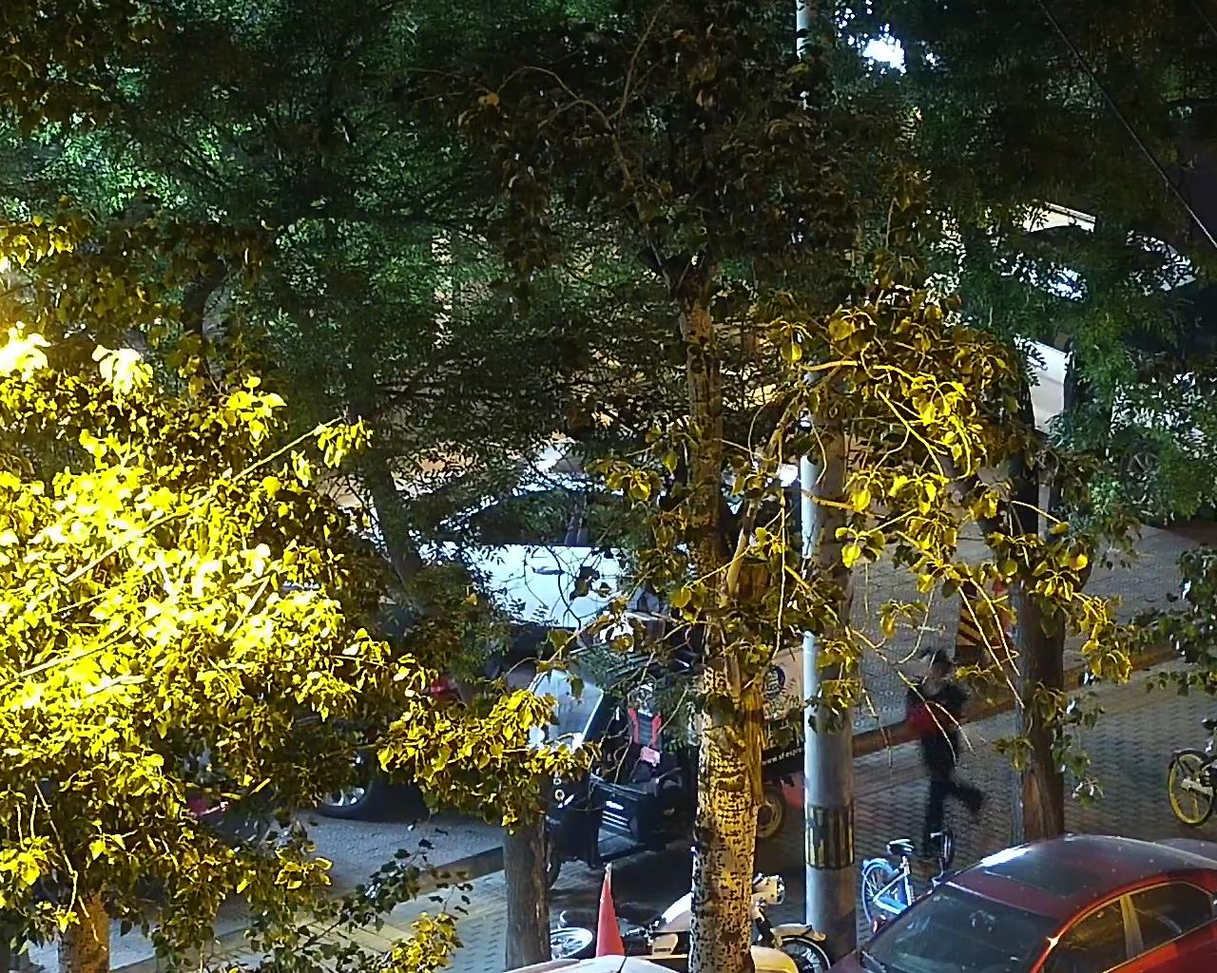person: (892, 648, 978, 865), (568, 548, 647, 652)
